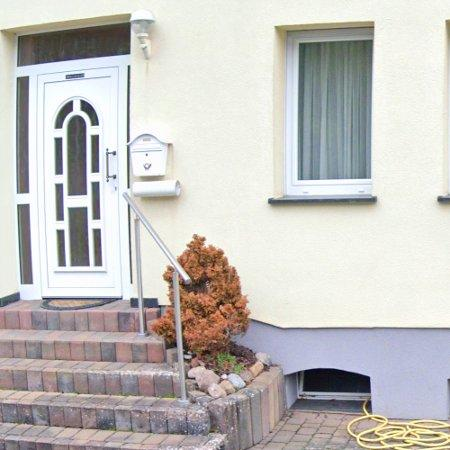stairs: (0, 301, 225, 450)
